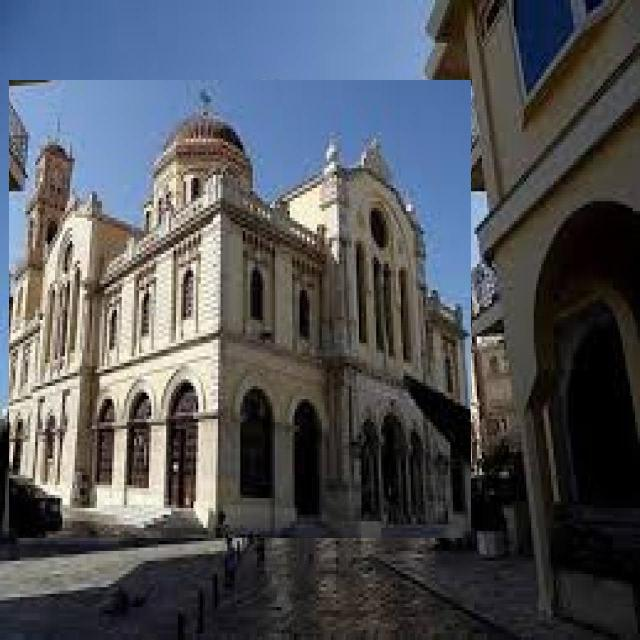Agios Minas: (10, 81, 472, 539)
